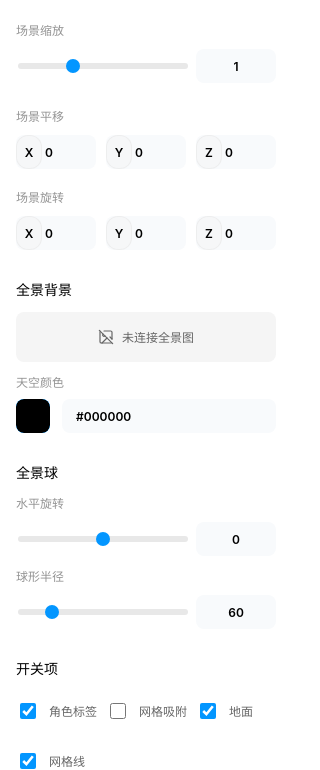
updates panorama yaw and ground height from both sliders and numeric inputs
Replace the text in the number field named "全景球水平旋转" with "45" at (236, 539), box [196,522,276,556]
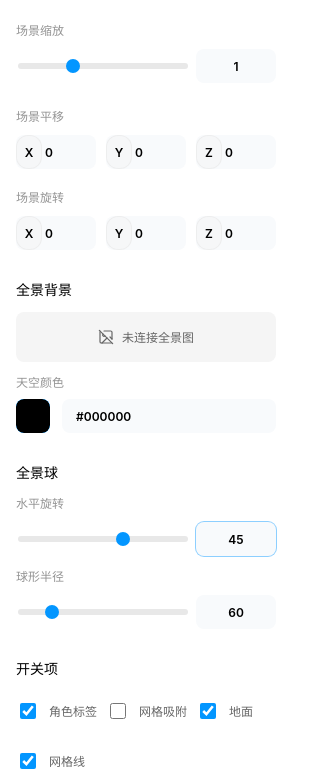
Now the slider named "全景球水平旋转滑杆" holds "45"
Set the slider named "全景球水平旋转滑杆" to "-30" at (90, 539), box [18,532,188,546]
(page scrolled)
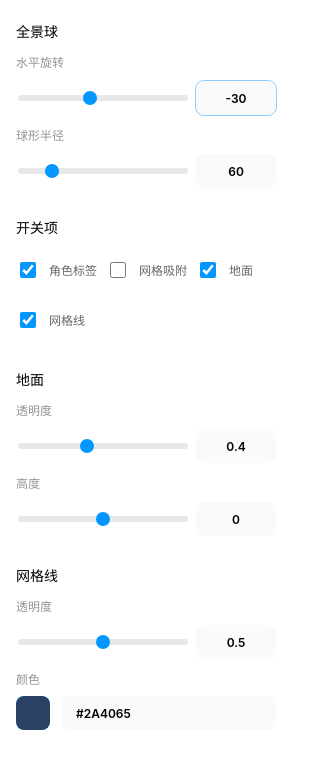
Now the number field named "全景球水平旋转" holds "-30", box [196,81,276,115]
Replace the text in the number field named "地面高度" with "1.2" at (236, 519), box [196,502,276,536]
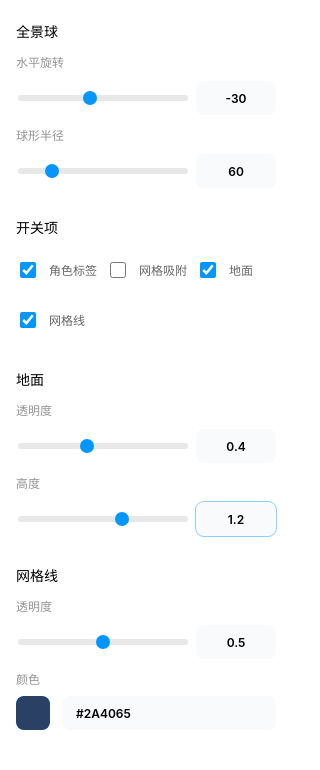
Now the slider named "地面高度滑杆" holds "1.2"
Set the slider named "地面高度滑杆" to "-1.5" at (80, 519), box [18,512,188,526]
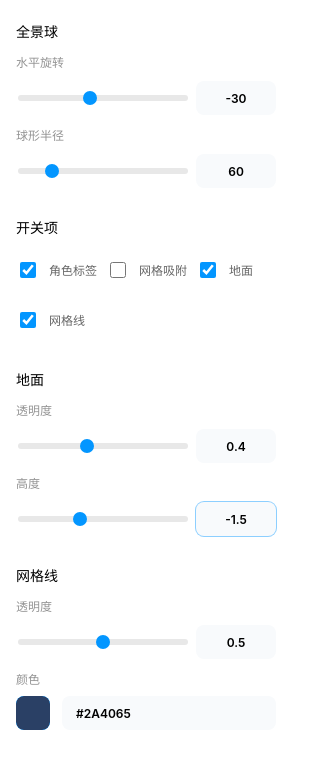
Now the number field named "地面高度" holds "-1.5", box [196,502,276,536]
